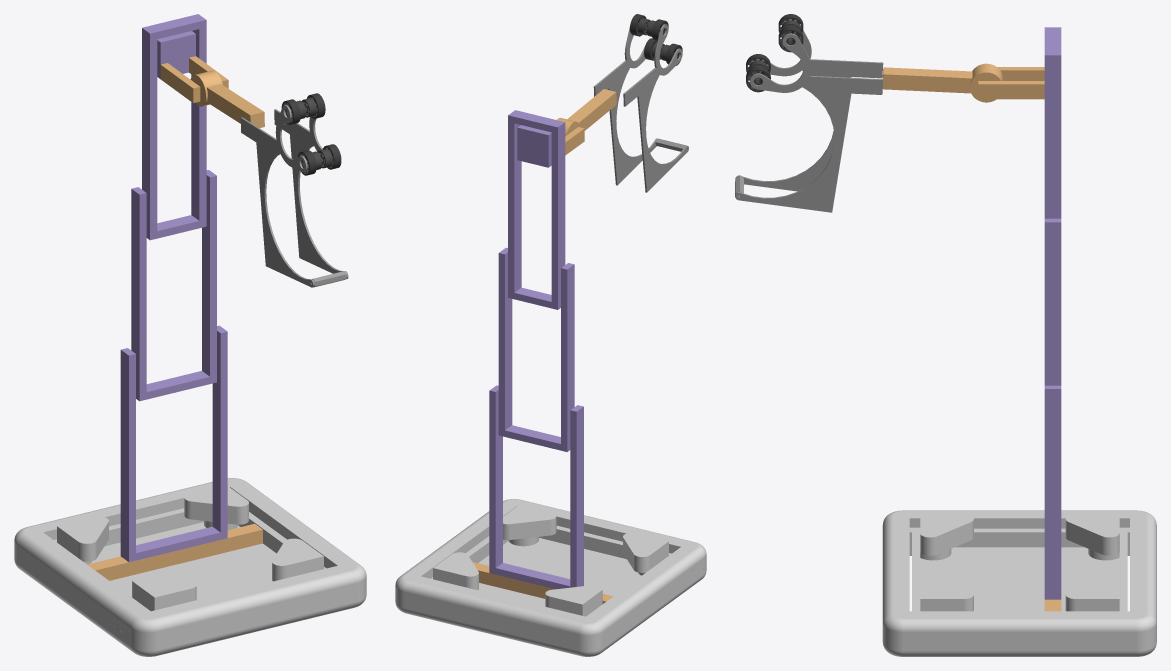
3 views of the same model, side by side, from view 1: azimuth 30°, elevation 25°; view 2: azimuth 150°, elevation 25°; view 3: azimuth 270°, elevation 25° (orthographic). The views are drawn at different scales.
Visible parts, largest first — view 1: id17, Elevator <1>, Component1 (×2), Generic Structure Piece (×2), Arm Segment, Carriage; view 2: id17, Elevator <1>, Component1 (×2), Carriage, Arm Segment, Generic Structure Piece; view 3: id17, Elevator <1>, Component1 (×2), Arm Segment, Generic Structure Piece (×2).
Boxes of the visible parts, left/top/right/bottom form: id17: left=14, top=478, right=366, bottom=656; Elevator <1>: left=120, top=14, right=227, bottom=562; Component1 (×2): left=240, top=105, right=348, bottom=287; Generic Structure Piece (×2): left=87, top=63, right=262, bottom=580; Arm Segment: left=190, top=70, right=264, bottom=128; Carriage: left=157, top=31, right=195, bottom=78; id17: left=395, top=499, right=706, bottom=656; Elevator <1>: left=489, top=110, right=583, bottom=589; Component1 (×2): left=593, top=24, right=688, bottom=192; Carriage: left=517, top=125, right=551, bottom=167; Arm Segment: left=557, top=89, right=616, bottom=135; Generic Structure Piece: left=472, top=562, right=612, bottom=603; id17: left=882, top=510, right=1156, bottom=656; Elevator <1>: left=1044, top=27, right=1061, bottom=599; Component1 (×2): left=735, top=19, right=883, bottom=212; Arm Segment: left=882, top=63, right=1002, bottom=102; Generic Structure Piece (×2): left=978, top=67, right=1044, bottom=99.
Bounding box in the file's own units: 0.8382 × 1.96 × 1.29.
